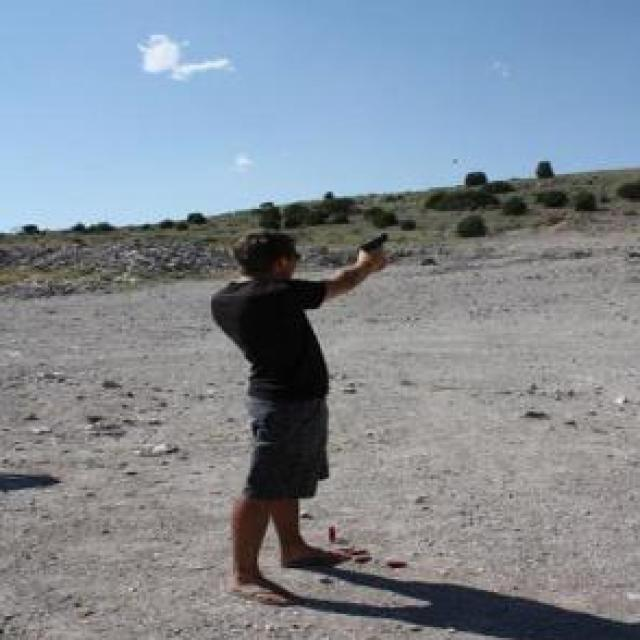pistol: (354, 231, 390, 259)
